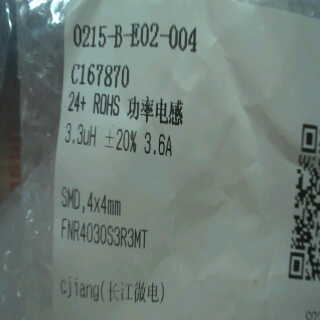3.3uH: (58, 120, 100, 148)
